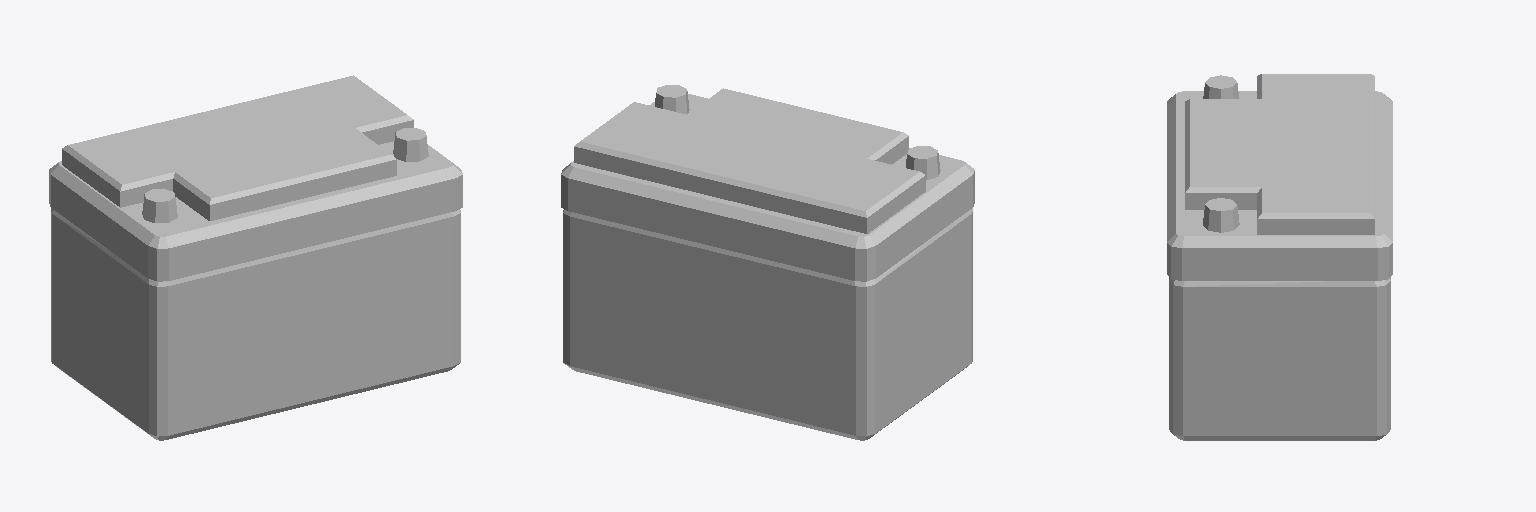
The model's file is car_battery_1.obj.
3 renders of one model, left to right at view 1: azimuth 30°, elevation 25°; view 2: azimuth 150°, elevation 25°; view 3: azimuth 270°, elevation 25°, orthographic.
Visible parts, largest first — view 1: car_battery_1; view 2: car_battery_1; view 3: car_battery_1.
Part boxes in pixels (left/top/right/bottom): car_battery_1: left=49, top=75, right=462, bottom=440; car_battery_1: left=561, top=85, right=974, bottom=440; car_battery_1: left=1167, top=74, right=1392, bottom=440.
Bounding box in the file's own units: 0.3744 × 0.2574 × 0.234.